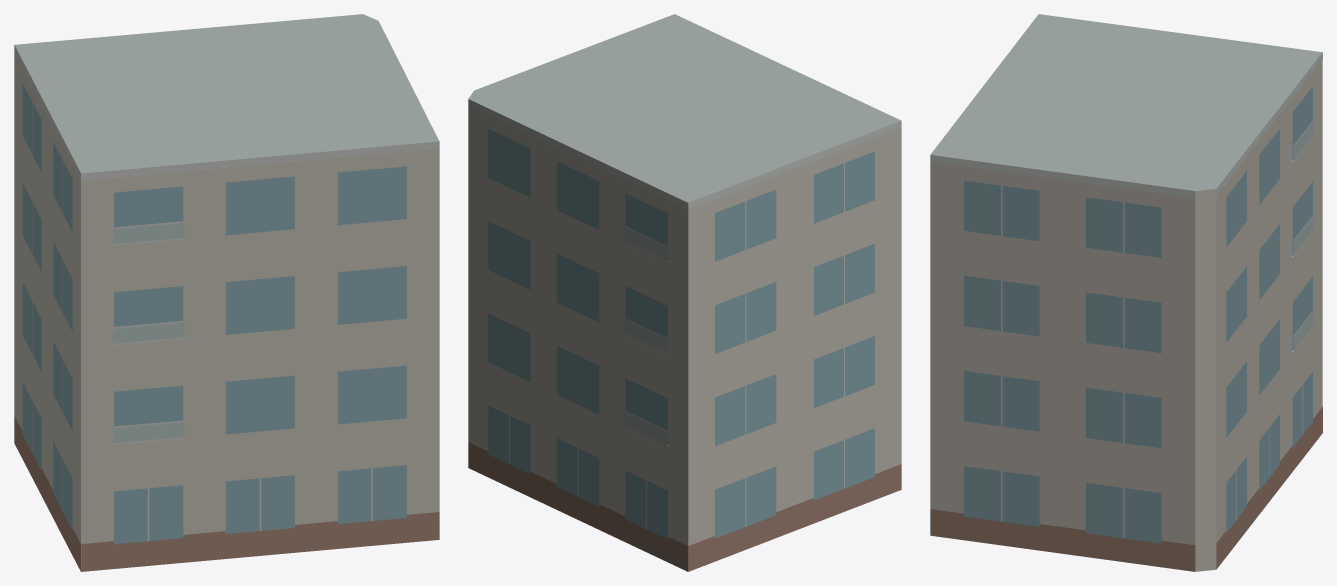
The model's file is survey-upis-32941789.glb.
3 renders of one model, left to right at view 1: azimuth 30°, elevation 25°; view 2: azimuth 150°, elevation 25°; view 3: azimuth 270°, elevation 25°, orthographic. The views are drawn at different scales.
Visible parts, largest first — view 1: survey-upis-32941789.tmp; view 2: survey-upis-32941789.tmp; view 3: survey-upis-32941789.tmp.
Boxes of the visible parts, x1,y1,x2,y2 form: survey-upis-32941789.tmp: (14,14,439,571); survey-upis-32941789.tmp: (468,14,901,571); survey-upis-32941789.tmp: (930,14,1322,571).
Size of the model in its own units: 13.17 by 13.2 by 12.34.
